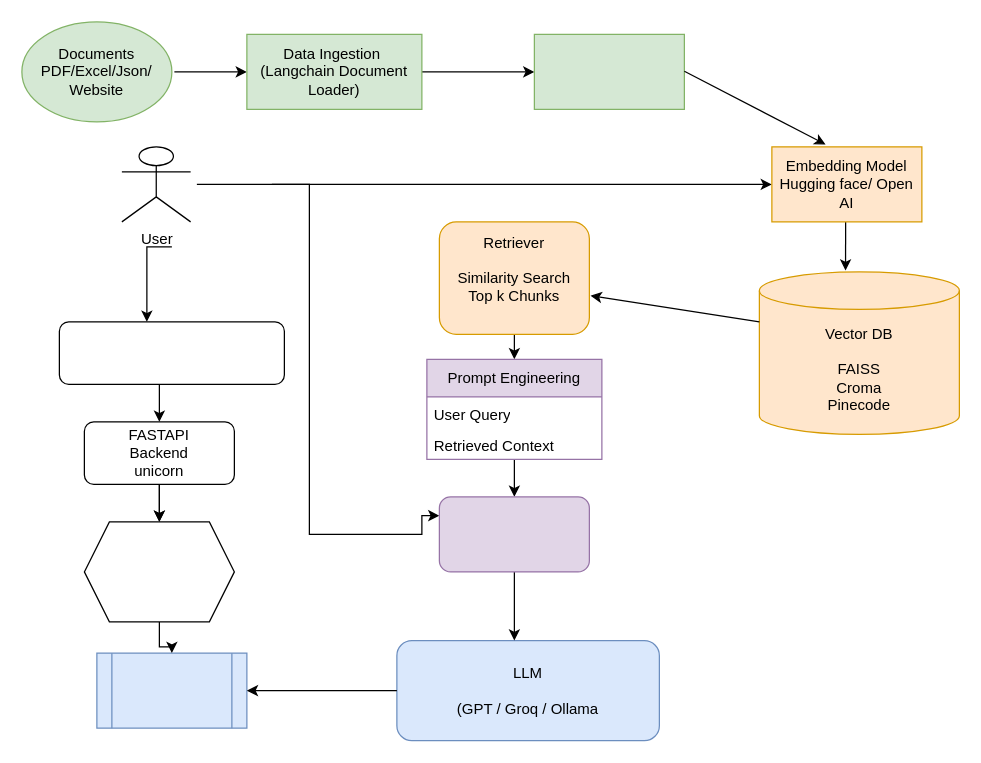
Image size: 981x763. Some labels were removed from this diagram. The shapes that lost their labels are listed below. From the top down, each one's centre as x and y in pixels, then its label:
the point at 608,71: Chunking (Text Spliter)
the point at 171,352: Chatbot UI Html/ JS
the point at 513,534: Context Window Token Limitation Top-K Chunk Fit
the point at 158,571: RAG Pipeline Retrive Augmented Generation
the point at 171,690: Response
